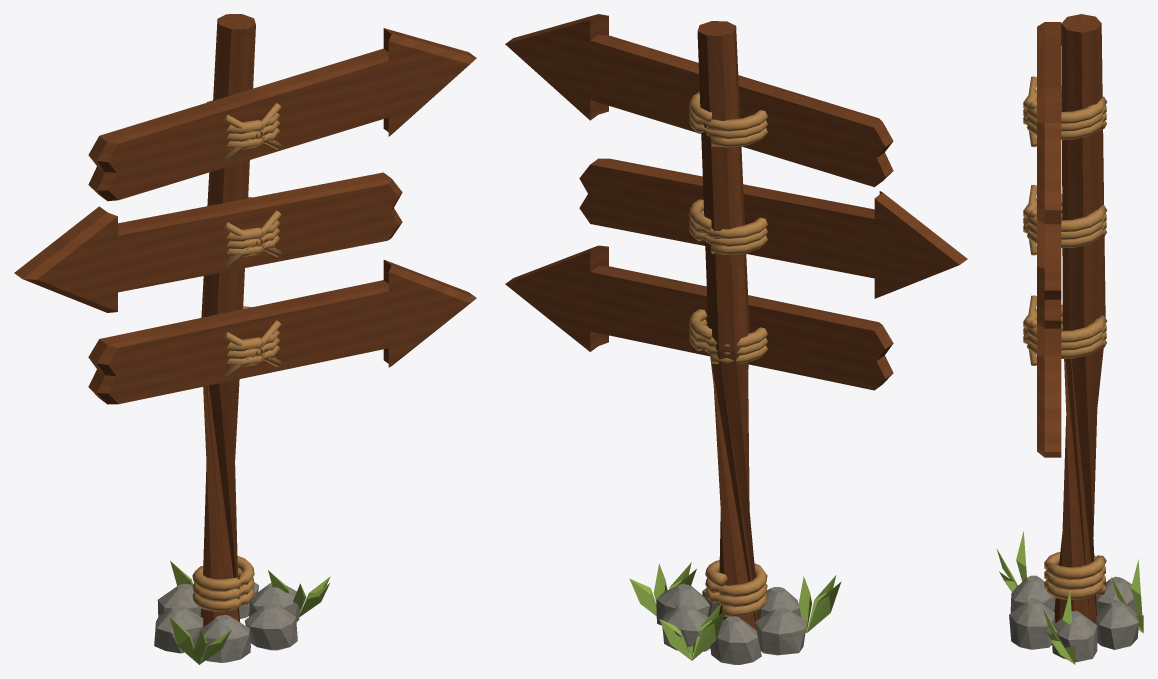
The model's file is direction_sign.glb.
The picture shows the model from 3 angles, left to right: view 1: azimuth 30°, elevation 25°; view 2: azimuth 150°, elevation 25°; view 3: azimuth 270°, elevation 25°; orthographic projection.
Parts seen in each view (by area): view 1: Wooden direction arrow 1, Wooden direction arrow 2, Wooden direction arrow 3, Crooked sign post, Base support rock, Sign arrow rope wrap, Post foot binding, Base foliage, Crossed arrow binding; view 2: Wooden direction arrow 1, Wooden direction arrow 3, Wooden direction arrow 2, Crooked sign post, Base support rock, Sign arrow rope wrap, Base foliage, Post foot binding; view 3: Crooked sign post, Base support rock, Sign arrow rope wrap, Wooden direction arrow 1, Wooden direction arrow 3, Wooden direction arrow 2, Post foot binding, Base foliage, Crossed arrow binding.
Part boxes in pixels (x1,y1,x2,y2): Wooden direction arrow 1: [88, 28, 476, 201]; Wooden direction arrow 2: [14, 172, 402, 312]; Wooden direction arrow 3: [88, 260, 476, 404]; Crooked sign post: [200, 14, 255, 626]; Base support rock: [154, 582, 300, 662]; Sign arrow rope wrap: [206, 100, 280, 367]; Post foot binding: [192, 555, 254, 611]; Base foliage: [169, 561, 330, 664]; Crossed arrow binding: [224, 103, 281, 378]; Wooden direction arrow 1: [505, 14, 893, 187]; Wooden direction arrow 3: [505, 245, 893, 390]; Wooden direction arrow 2: [579, 158, 967, 298]; Crooked sign post: [697, 21, 759, 629]; Base support rock: [656, 584, 806, 664]; Sign arrow rope wrap: [689, 91, 767, 363]; Base foliage: [629, 562, 841, 660]; Post foot binding: [705, 560, 767, 616]; Crooked sign post: [1054, 14, 1105, 623]; Base support rock: [1009, 575, 1138, 662]; Sign arrow rope wrap: [1023, 86, 1107, 358]; Wooden direction arrow 1: [1037, 22, 1061, 224]; Wooden direction arrow 3: [1037, 323, 1061, 457]; Wooden direction arrow 2: [1037, 219, 1061, 328]; Post foot binding: [1044, 552, 1106, 599]; Base foliage: [997, 531, 1143, 664]; Crossed arrow binding: [1026, 76, 1036, 366].
Size of the model in its own units: 2.08 by 2.68 by 0.5786.
4 materials, 3 textured.
